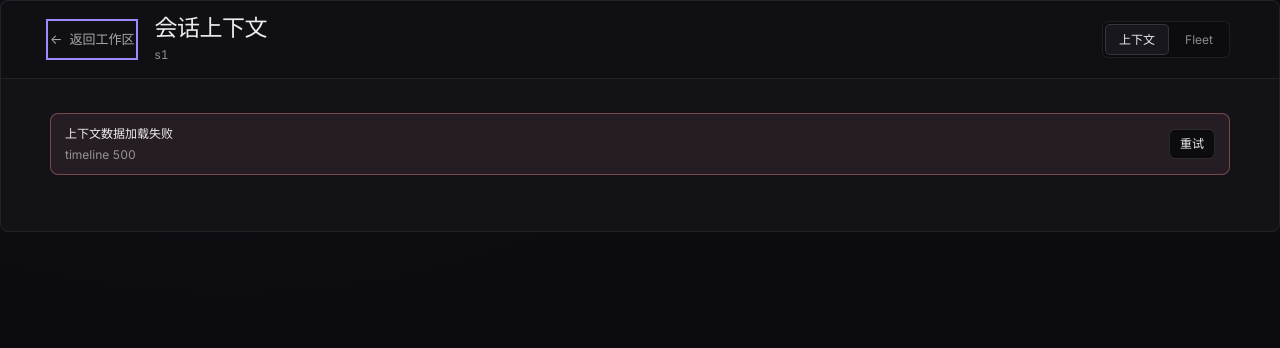
Test case: SessionInsightsPage › degrades the context panel without hiding Fleet when the timeline fails
Expected: the heading "会话上下文" is shown, [154,14,267,42]
Expected: the message with class "ctx-insights-error" shows "timeline 500", [65,147,136,162]
Step 1. Click the tab "Fleet" → click(1199, 39), box [1171,24,1227,55]
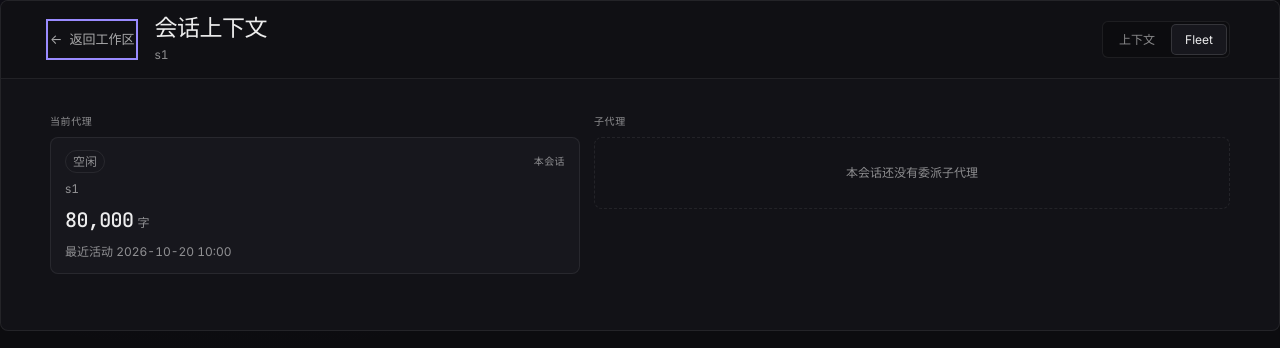
Expected: the text "本会话还没有委派子代理" is shown, [594,137,1230,209]
